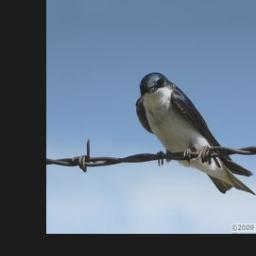Swallow: (134, 72, 254, 195)
